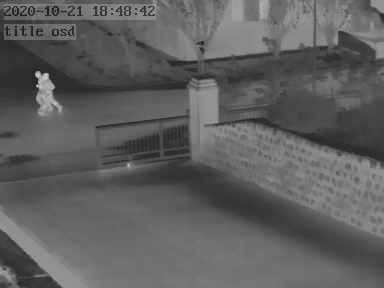person: (35, 71, 59, 113)
